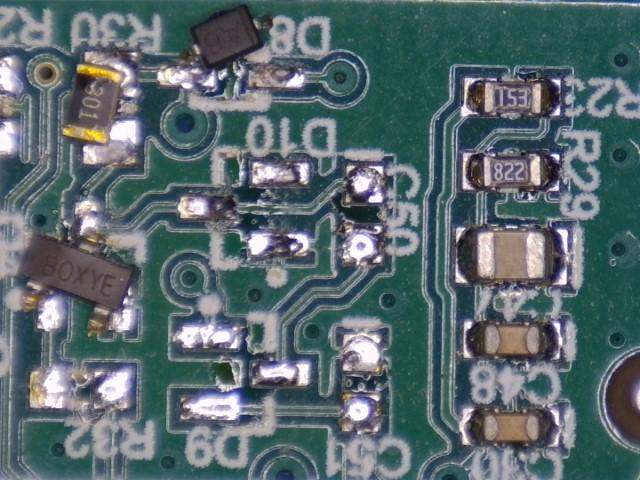Incorrect_installation: (17, 200, 137, 336), (159, 6, 274, 89), (60, 52, 141, 168)
